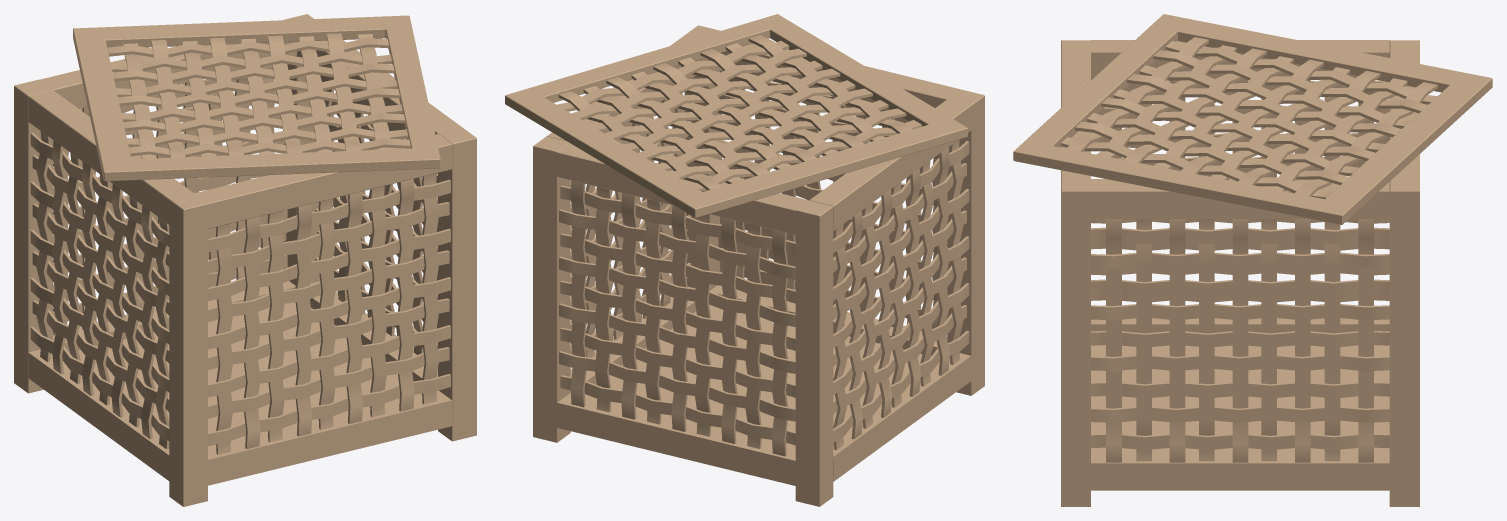
File: IKEA-HOL_side_table_basket-3D.obj
3 renders of one model, left to right at view 1: azimuth 30°, elevation 25°; view 2: azimuth 150°, elevation 25°; view 3: azimuth 270°, elevation 25°, orthographic. The views are drawn at different scales.
Parts seen in each view (by area): view 1: Box028, Box029, Box025, Rectangle001, Box006, Box005, Box014, Box012, Box003, Box027, Box001, Box030 (+7 smaller); view 2: Box027, Box029, Box025, Rectangle001, Box003, Box004, Box013, Box006, Box030, Box011, Box016, Box028 (+7 smaller); view 3: Box026, Box029, Rectangle001, Box015, Box004, Box005, Box030, Box025, Box002, Box001, Box016, Box012 (+1 smaller).
Boxes of the visible parts, bbox=[...] form: Box028: bbox=[208, 173, 450, 454]; Box029: bbox=[107, 33, 410, 158]; Box025: bbox=[30, 131, 169, 449]; Rectangle001: bbox=[73, 15, 440, 181]; Box006: bbox=[169, 193, 207, 506]; Box005: bbox=[438, 127, 476, 441]; Box014: bbox=[208, 390, 452, 485]; Box012: bbox=[194, 134, 452, 228]; Box003: bbox=[14, 79, 52, 393]; Box027: bbox=[53, 64, 287, 335]; Box001: bbox=[28, 90, 193, 224]; Box030: bbox=[78, 302, 420, 439]; Box027: bbox=[559, 180, 795, 456]; Box029: bbox=[557, 35, 921, 191]; Box025: bbox=[833, 139, 969, 450]; Rectangle001: bbox=[505, 14, 967, 217]; Box003: bbox=[795, 200, 833, 506]; Box004: bbox=[533, 136, 570, 442]; Box013: bbox=[557, 393, 795, 485]; Box006: bbox=[947, 89, 984, 395]; Box030: bbox=[585, 304, 931, 447]; Box011: bbox=[557, 143, 808, 234]; Box016: bbox=[833, 353, 971, 481]; Box028: bbox=[718, 69, 947, 331]; Box026: bbox=[1091, 219, 1389, 462]; Box029: bbox=[1061, 37, 1437, 199]; Rectangle001: bbox=[1013, 14, 1492, 224]; Box015: bbox=[1091, 450, 1389, 490]; Box004: bbox=[1389, 179, 1419, 506]; Box005: bbox=[1061, 179, 1090, 506]; Box030: bbox=[1091, 345, 1389, 450]; Box025: bbox=[1091, 80, 1389, 302]; Box002: bbox=[1091, 179, 1389, 218]; Box001: bbox=[1091, 40, 1389, 79]; Box016: bbox=[1091, 318, 1389, 332]; Box012: bbox=[1061, 52, 1090, 179].
Bounding box in the file's own units: 664 × 500 × 667.
